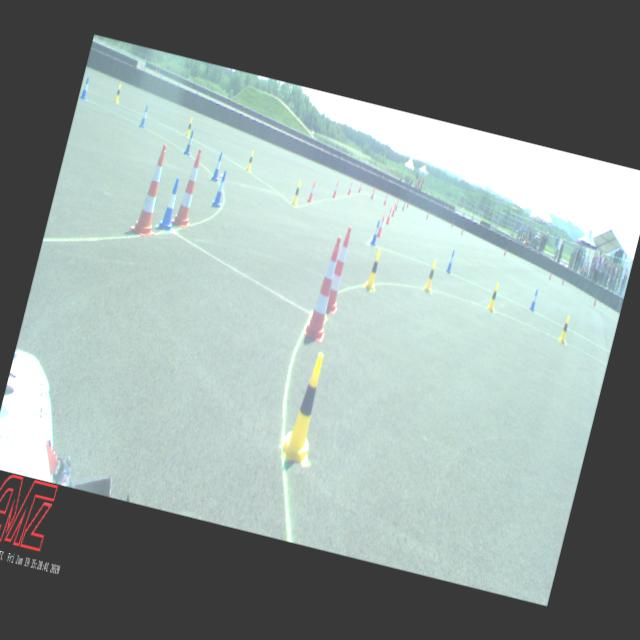blue_cone: (157, 175, 185, 233), (210, 169, 230, 209), (210, 150, 224, 182), (136, 103, 150, 129), (369, 218, 382, 246), (183, 130, 196, 156), (444, 248, 456, 274), (79, 76, 91, 100), (528, 288, 540, 311)
large_orange_cone: (302, 233, 348, 343), (128, 141, 176, 239), (317, 224, 357, 315), (170, 147, 208, 229)
orange_cone: (306, 180, 318, 202), (375, 214, 386, 238), (385, 206, 393, 224), (331, 180, 339, 198), (346, 180, 354, 196), (389, 202, 396, 216), (393, 198, 399, 212), (370, 187, 376, 200), (382, 193, 388, 206), (358, 180, 362, 192)
yellow_cone: (276, 348, 334, 466), (362, 247, 384, 291), (422, 258, 439, 293), (486, 280, 500, 312), (557, 314, 572, 343), (290, 178, 302, 206), (244, 149, 256, 173), (184, 116, 195, 138), (113, 82, 123, 104)
